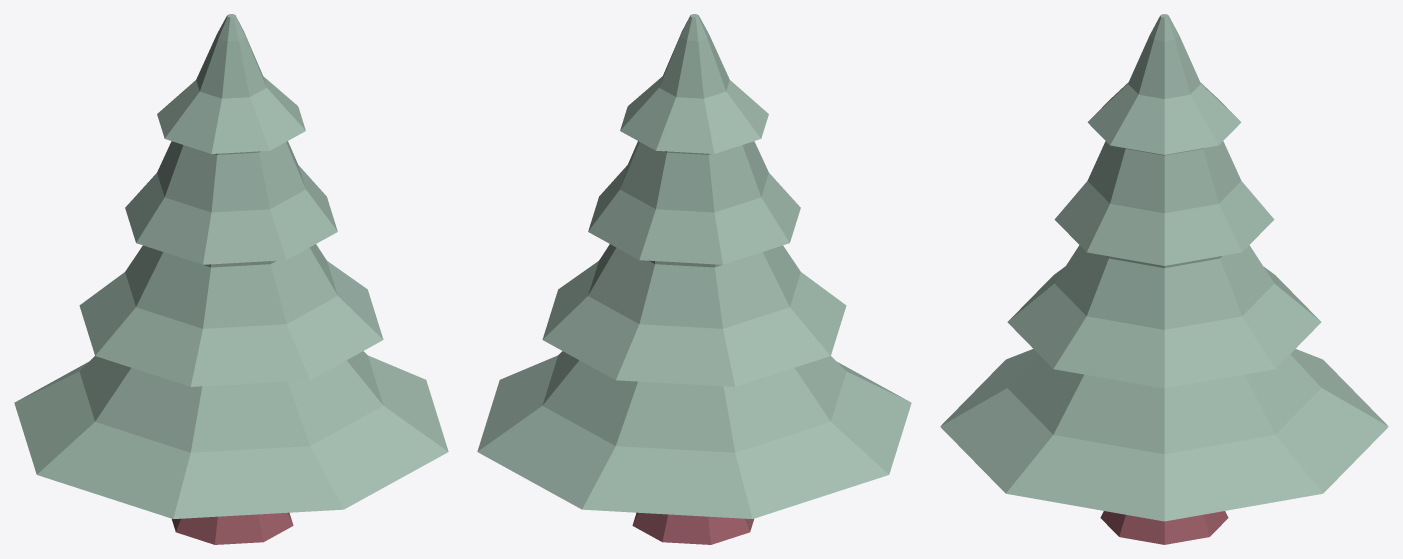
Rendered from Tree_1.fbx.
3 views of the same model, side by side, from view 1: azimuth 30°, elevation 25°; view 2: azimuth 150°, elevation 25°; view 3: azimuth 270°, elevation 25° (orthographic).
Visible parts, largest first — view 1: Cylinder.001, Cylinder.002, Cylinder.003, Cylinder.004, Cylinder; view 2: Cylinder.001, Cylinder.002, Cylinder.003, Cylinder.004, Cylinder; view 3: Cylinder.001, Cylinder.002, Cylinder.003, Cylinder.004, Cylinder.
Boxes of the visible parts, x1=… form: Cylinder.001: x1=14, y1=351, x2=448, y2=518; Cylinder.002: x1=79, y1=244, x2=383, y2=386; Cylinder.003: x1=125, y1=141, x2=337, y2=264; Cylinder.004: x1=157, y1=14, x2=305, y2=153; Cylinder: x1=172, y1=512, x2=293, y2=544; Cylinder.001: x1=477, y1=351, x2=911, y2=518; Cylinder.002: x1=542, y1=244, x2=846, y2=386; Cylinder.003: x1=588, y1=141, x2=800, y2=264; Cylinder.004: x1=620, y1=14, x2=768, y2=153; Cylinder: x1=632, y1=512, x2=753, y2=544; Cylinder.001: x1=940, y1=349, x2=1388, y2=521; Cylinder.002: x1=1007, y1=245, x2=1321, y2=388; Cylinder.003: x1=1054, y1=141, x2=1274, y2=265; Cylinder.004: x1=1087, y1=14, x2=1241, y2=154; Cylinder: x1=1100, y1=511, x2=1228, y2=544.
Bounding box in the file's own units: 700 × 864 × 700.
